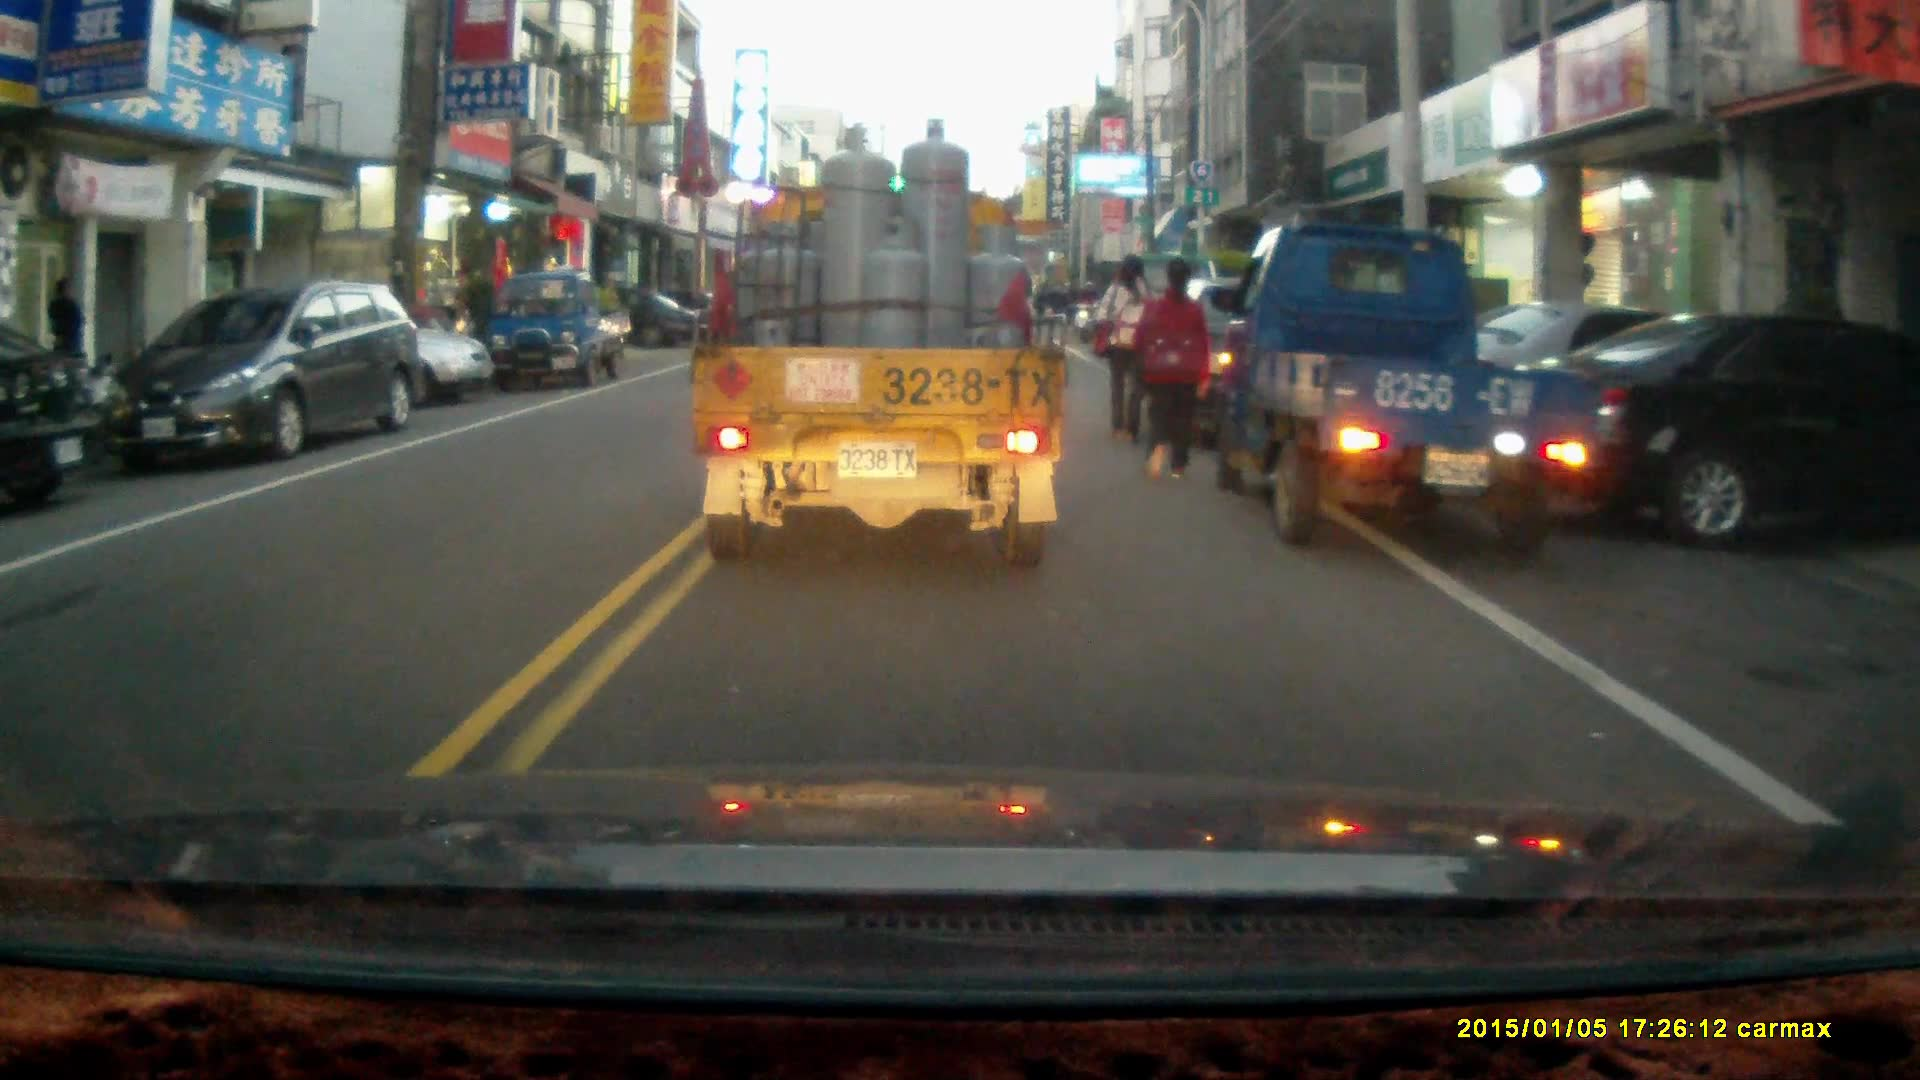pedestrian: (1128, 255, 1210, 479), (1096, 252, 1160, 446), (41, 272, 86, 393)
rider: (1069, 279, 1099, 342)
vehicle: (688, 118, 1069, 575), (1210, 224, 1603, 565), (101, 281, 424, 469), (234, 292, 496, 412), (1, 329, 110, 510), (483, 273, 625, 395)
